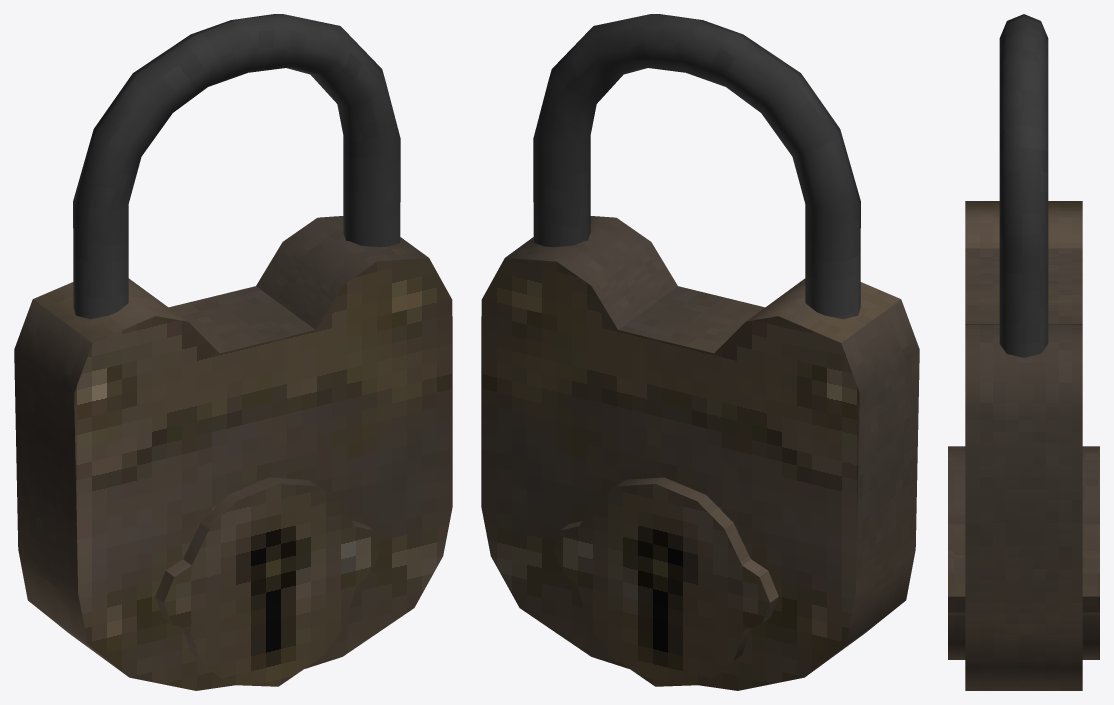
The model's file is padlock_1.fbx.
The picture shows the model from 3 angles, left to right: view 1: azimuth 30°, elevation 25°; view 2: azimuth 150°, elevation 25°; view 3: azimuth 270°, elevation 25°; orthographic projection. The views are drawn at different scales.
Visible parts, largest first — view 1: padlock_1, padlock_1_shackle; view 2: padlock_1, padlock_1_shackle; view 3: padlock_1, padlock_1_shackle.
Boxes of the visible parts, <box> form: padlock_1: <box>14,216,452,690</box>; padlock_1_shackle: <box>73,14,400,319</box>; padlock_1: <box>481,216,919,690</box>; padlock_1_shackle: <box>533,14,860,319</box>; padlock_1: <box>948,201,1099,690</box>; padlock_1_shackle: <box>999,14,1048,357</box>.
Bounding box in the file's own units: 0.062 × 0.022 × 0.0999.
